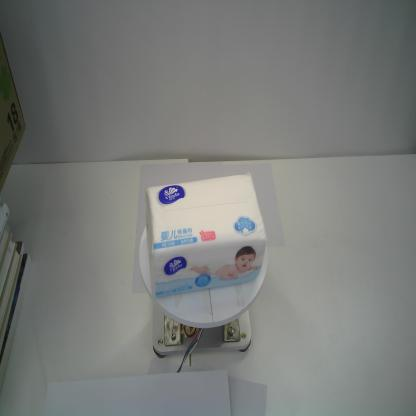Tissue: (143, 170, 268, 299)
